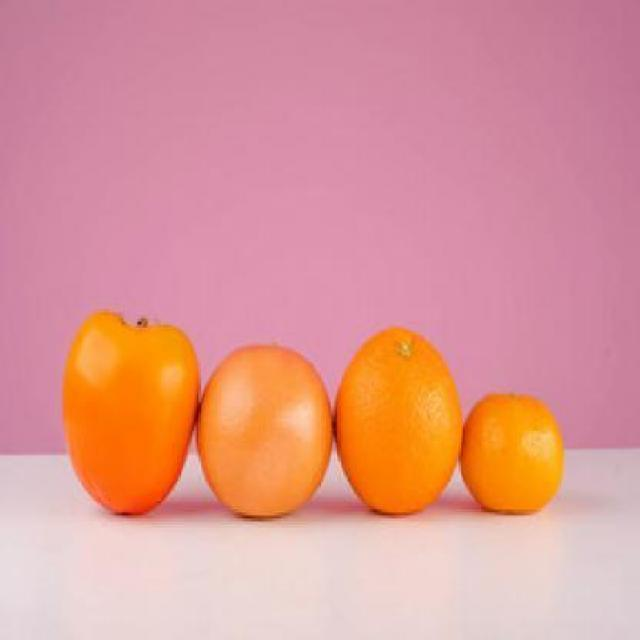Jeruk Sudah Matang: (195, 336, 333, 518), (336, 324, 462, 516), (463, 394, 562, 510)
